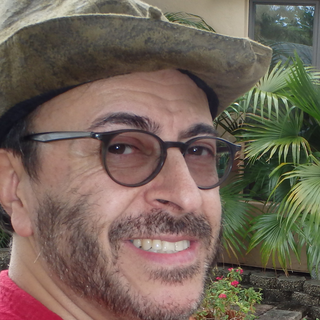eye: (100, 135, 143, 161), (175, 139, 214, 164)
